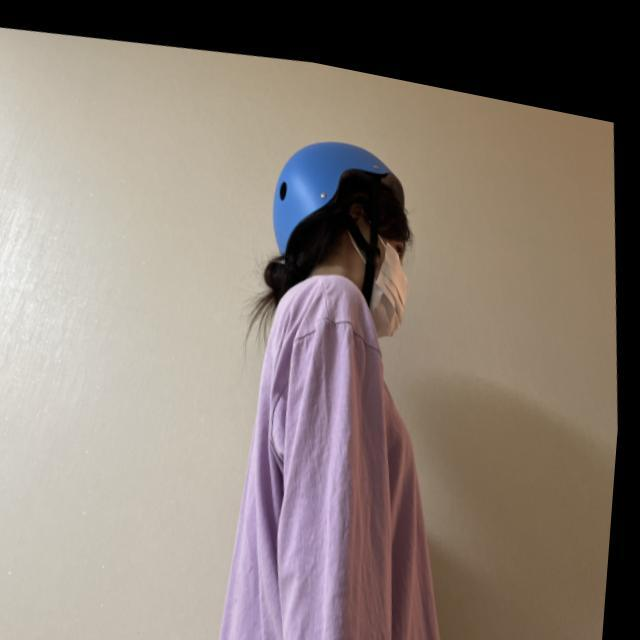Helmet: (241, 131, 412, 354)
